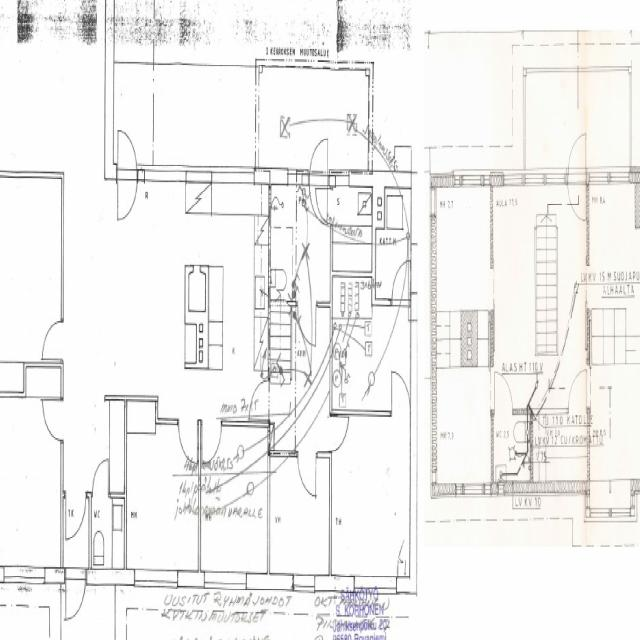door: (411, 246, 439, 290), (118, 163, 137, 220), (66, 571, 85, 628), (118, 122, 137, 178), (567, 126, 586, 179), (567, 165, 586, 217), (202, 420, 222, 466), (310, 163, 327, 216), (66, 492, 85, 539), (392, 367, 411, 414), (310, 126, 327, 178), (178, 420, 197, 466), (43, 401, 64, 440), (298, 301, 316, 345), (391, 263, 409, 307), (568, 371, 586, 415), (298, 450, 316, 493), (313, 188, 333, 225), (44, 322, 64, 359), (495, 372, 512, 415), (251, 381, 271, 417), (330, 416, 349, 449), (92, 459, 108, 498)
